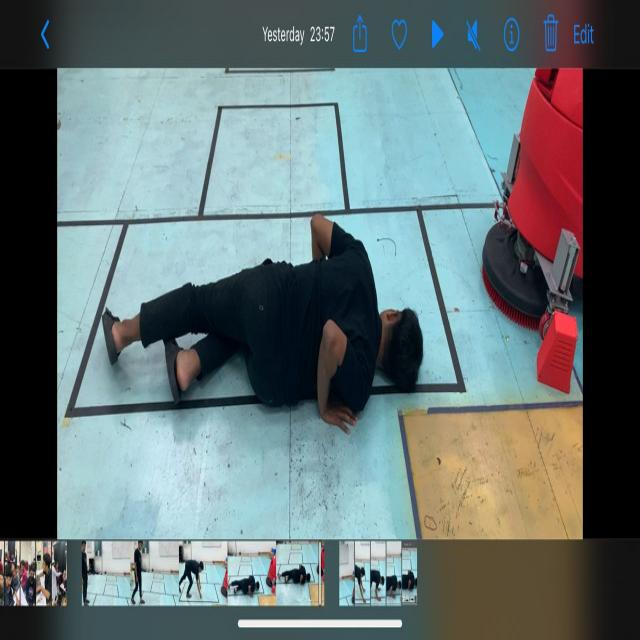Fall-Detected: (93, 183, 433, 449)
